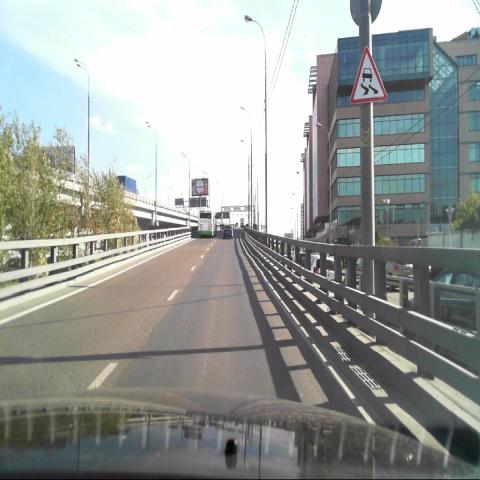1_15: (346, 47, 388, 104)
